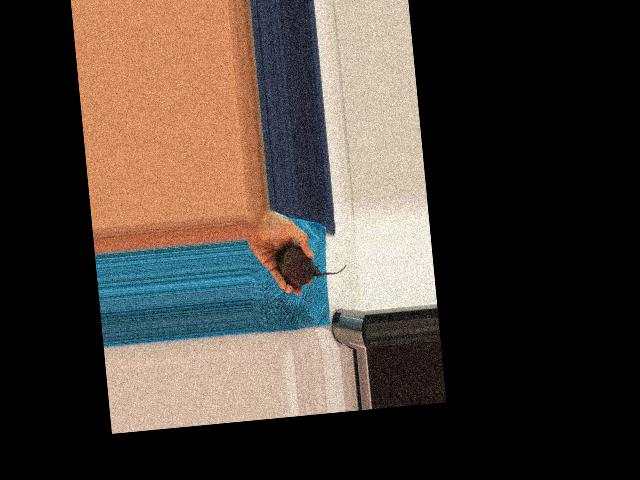beet: (274, 241, 347, 289)
